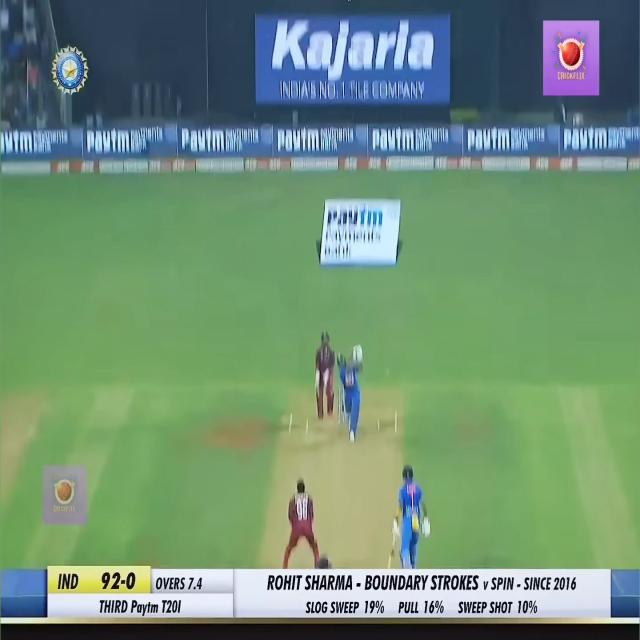fully_visible: (323, 195, 385, 229), (178, 126, 226, 158), (369, 126, 414, 156), (560, 128, 608, 156), (84, 126, 131, 154), (463, 126, 510, 153), (276, 128, 321, 151), (130, 593, 161, 621)
partially_visible: (1, 128, 34, 162)
